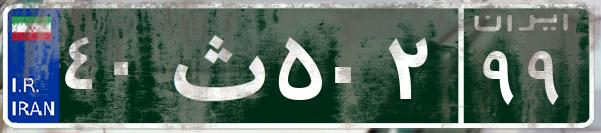0: (330, 28, 385, 110), (110, 28, 158, 105)
2: (385, 28, 445, 110)
4: (57, 26, 110, 107)
5: (273, 28, 330, 110)
9: (475, 38, 525, 113), (525, 38, 570, 115)
ث: (158, 15, 273, 115)
